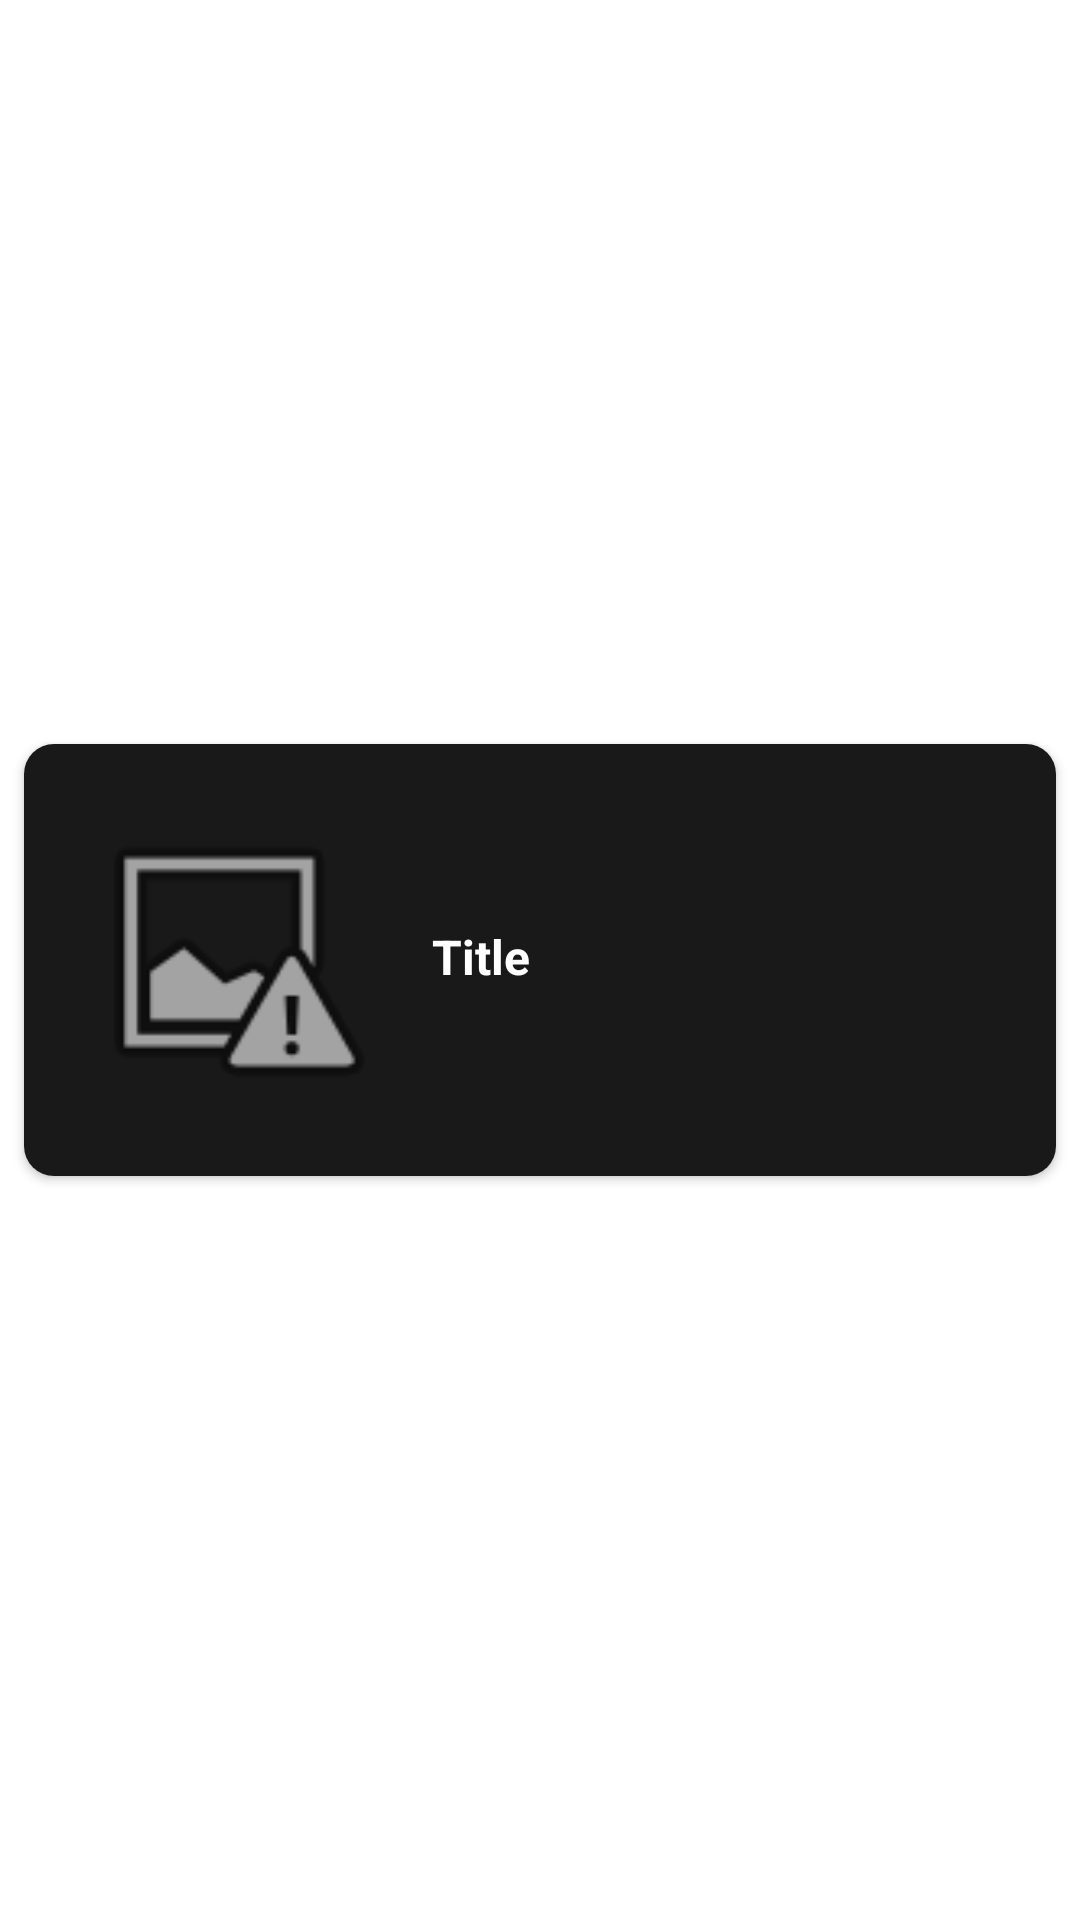

Point at icon controls on the screen. Image size 1080*1920, points as (x,y).
report: (239,962)
